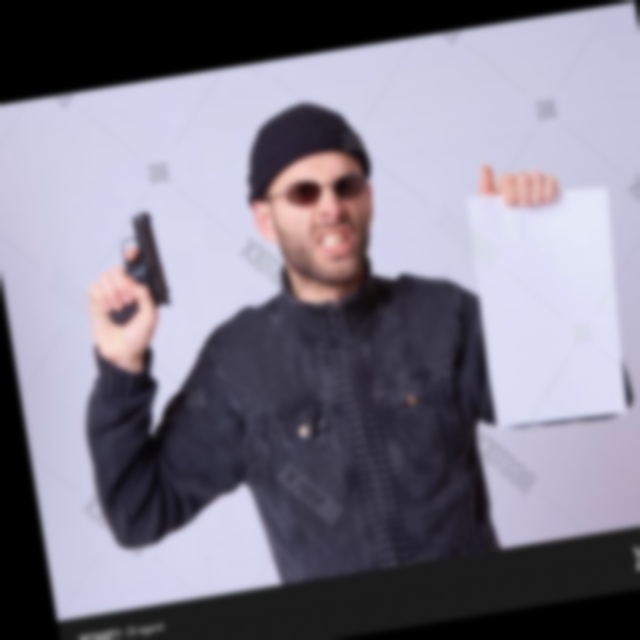gun: (54, 177, 197, 367)
